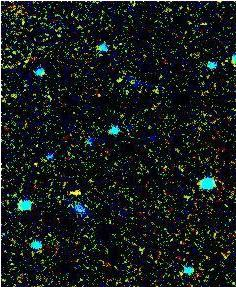star: (59, 177, 89, 207)
